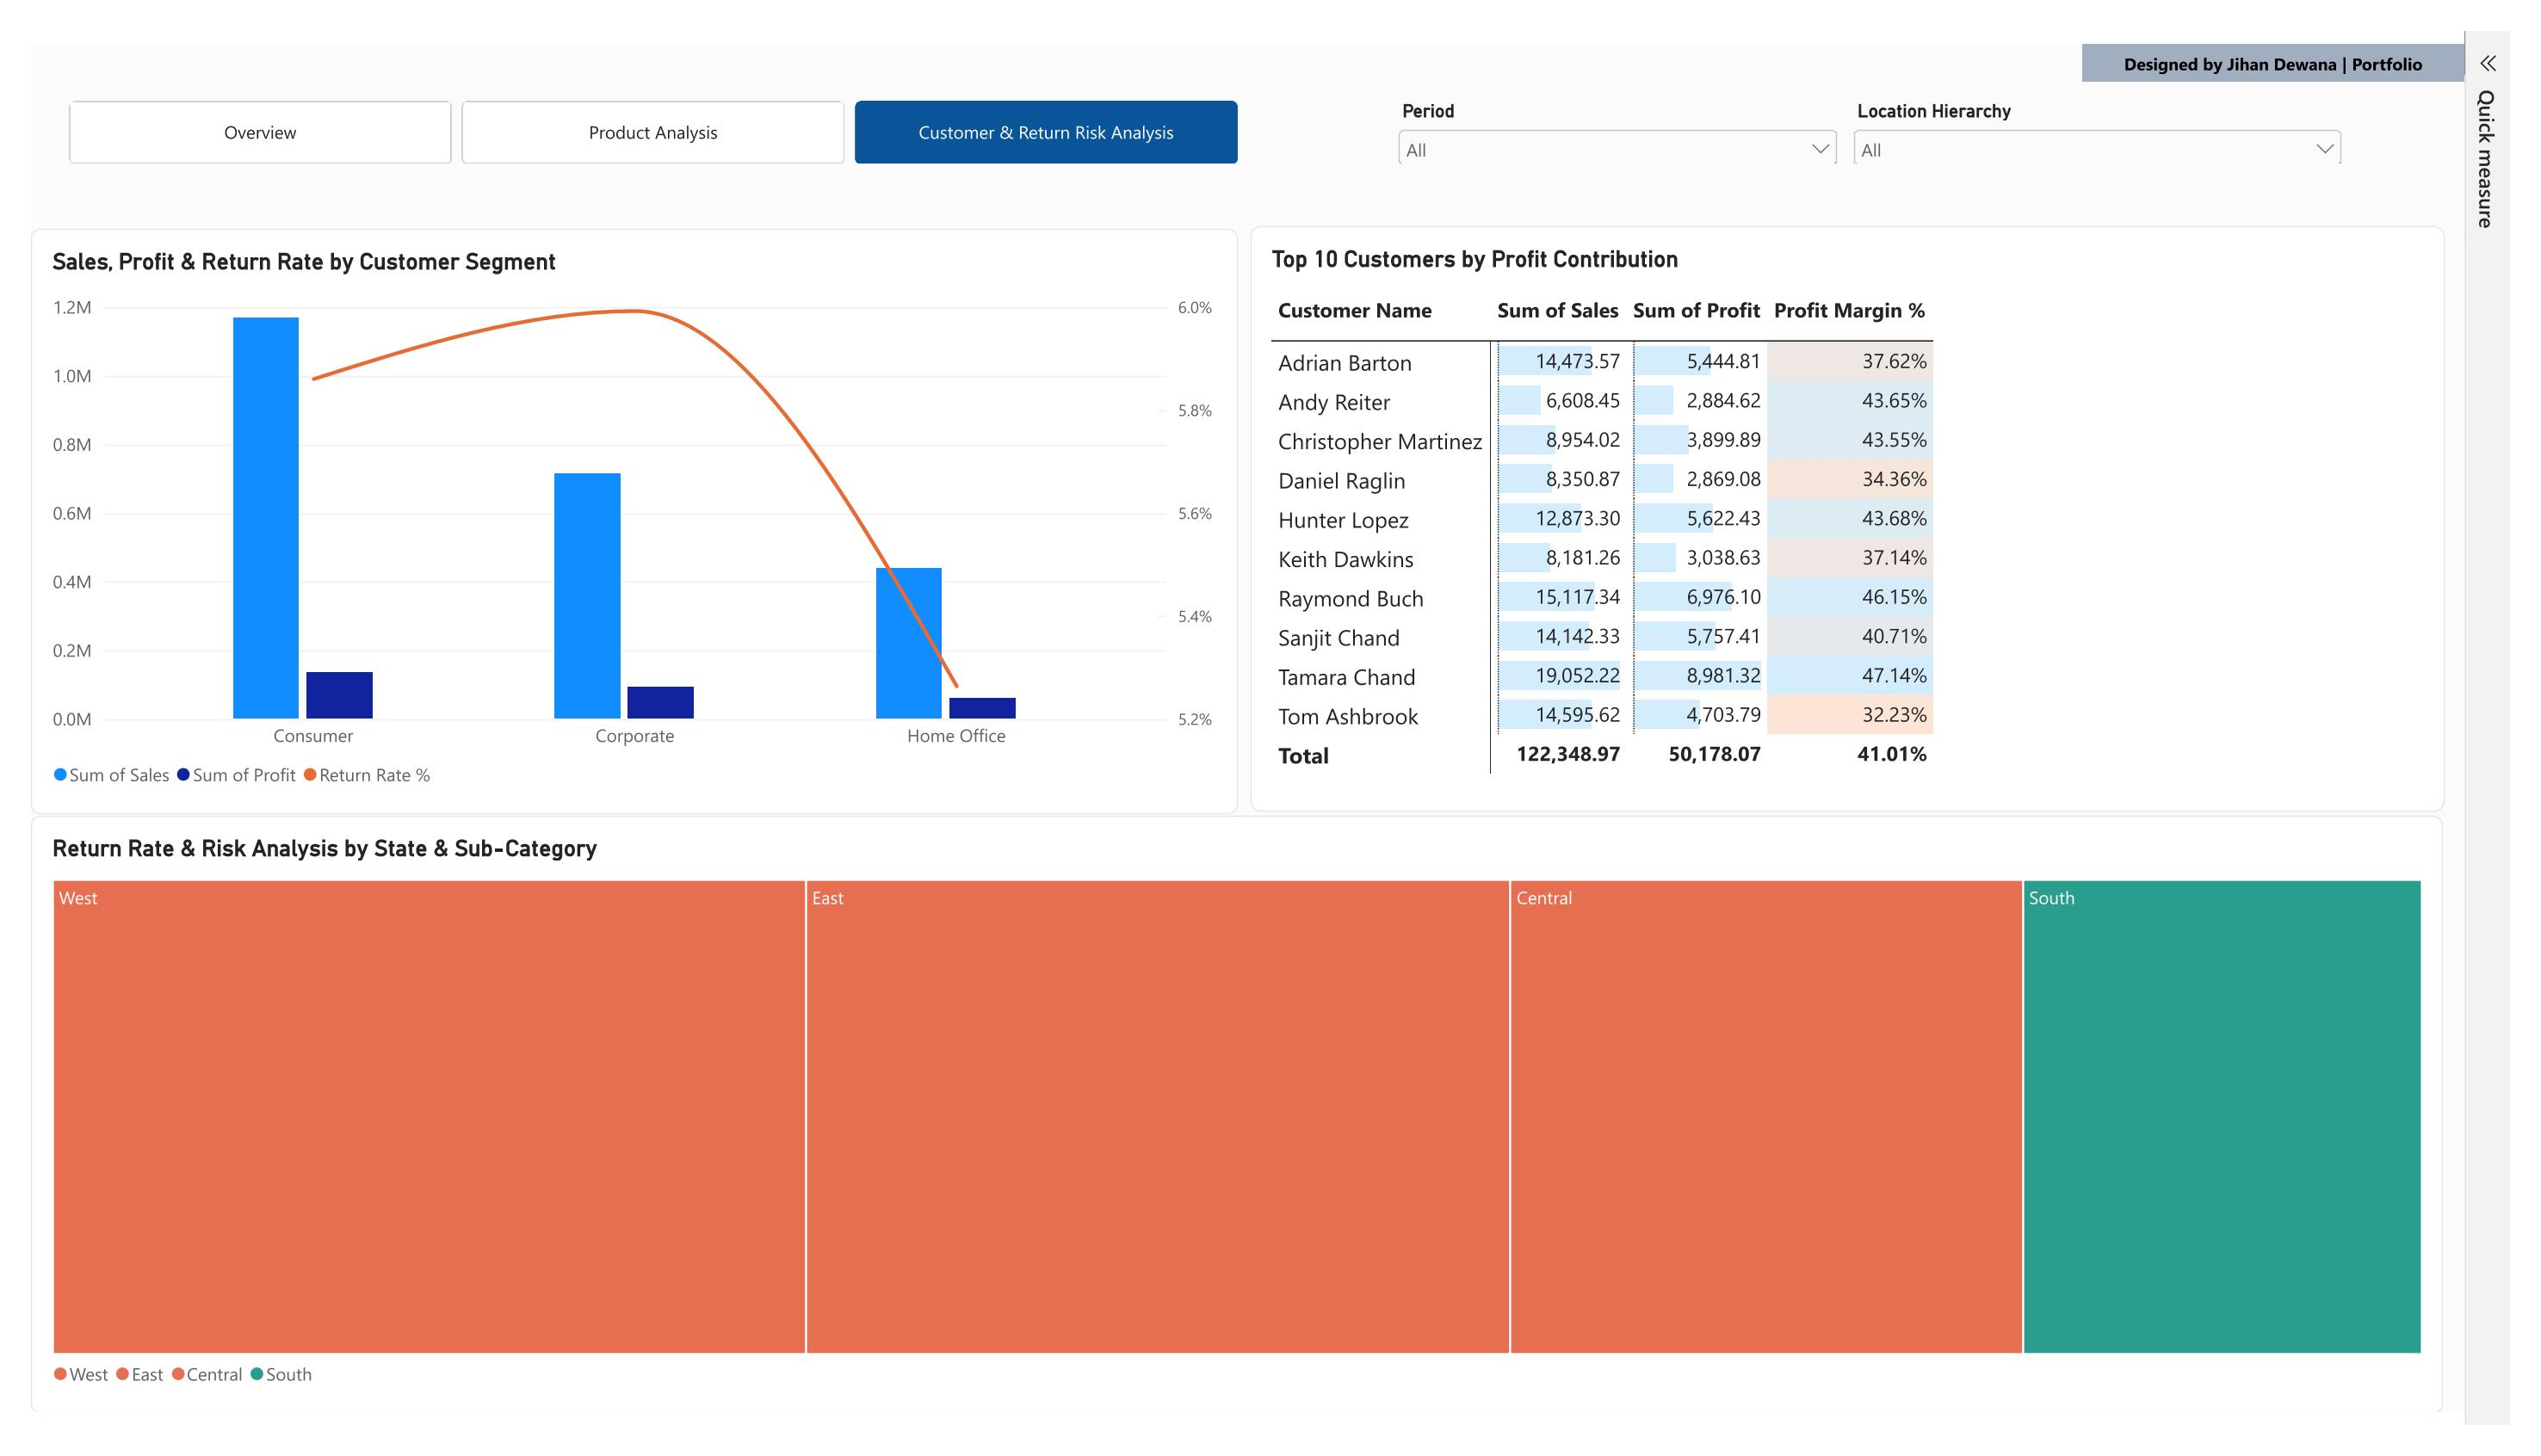

Layout of this report page (visuals, bound fields, positions):
{"tool":"powerbi","page":{"name":"Customer & Return Risk Analysis","canvas":[1920,1080],"ordinal":2},"visuals":[{"type":"slicer","fields":{"Values":["Orders.Region","Orders.Country/Region","Orders.State/Province","Orders.City"]},"box":[1432.6,44.5,395.2,50],"z":0},{"type":"slicer","fields":{"Values":["Orders.Order Date.Variation.Date Hierarchy.Year"]},"box":[1073.8,44.5,356.6,50],"z":1000},{"type":"pageNavigator","box":[29.7,44.5,924.4,50],"z":2000},{"type":"lineClusteredColumnComboChart","title":"Sales, Profit & Return Rate by Customer Segment","fields":{"Category":["Orders.Segment"],"Y":["Sum(Orders.Sales)","Sum(Orders.Profit)"],"Y2":["Returns.Return Rate %"]},"box":[0,146,952.4,462.1],"z":3000},{"type":"pivotTable","title":"Top 10 Customers by Profit Contribution","fields":{"Rows":["Orders.Customer Name"],"Values":["Sum(Orders.Sales)","Sum(Orders.Profit)","Orders.Profit Margin %"]},"box":[962.5,143.5,941.1,462.1],"z":4000},{"type":"treemap","title":"Return Rate & Risk Analysis by State & Sub-Category","fields":{"Group":["Orders.Region"],"Values":["Sum(Orders.Sales)"]},"box":[0,608.7,1902.7,472.6],"z":5000},{"type":"shape","box":[1618.1,0,301.9,29.7],"z":5001}]}

Visuals, with their boxes in screenshot pixels (x1, y1, x2, y2), scaled from the page's 1920x1080 canvas onto the 2541x1456 screenshot:
slicer - Orders.Region x Orders.Country/Region: [1896, 60, 2419, 127]
slicer - Orders.Order Date.Variation.Date Hierarchy.Year: [1421, 60, 1893, 127]
pageNavigator: [40, 60, 1263, 127]
"Sales, Profit & Return Rate by Customer Segment" lineClusteredColumnComboChart: [0, 197, 1260, 820]
"Top 10 Customers by Profit Contribution" pivotTable: [1274, 194, 2519, 817]
"Return Rate & Risk Analysis by State & Sub-Category" treemap: [0, 821, 2518, 1455]
shape: [2142, 0, 2540, 40]
